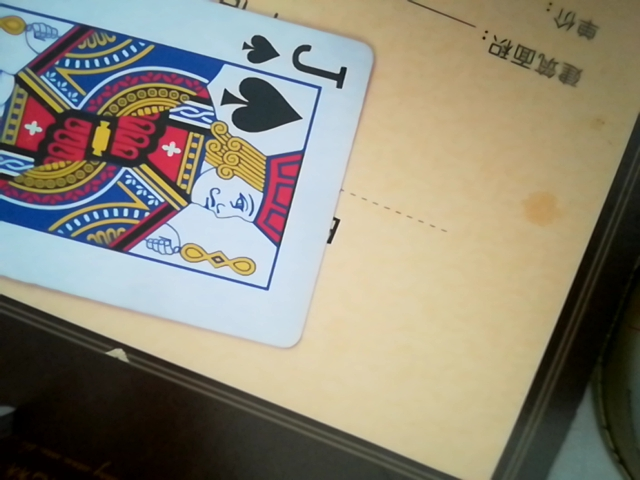ht j: (0, 0, 381, 356)
